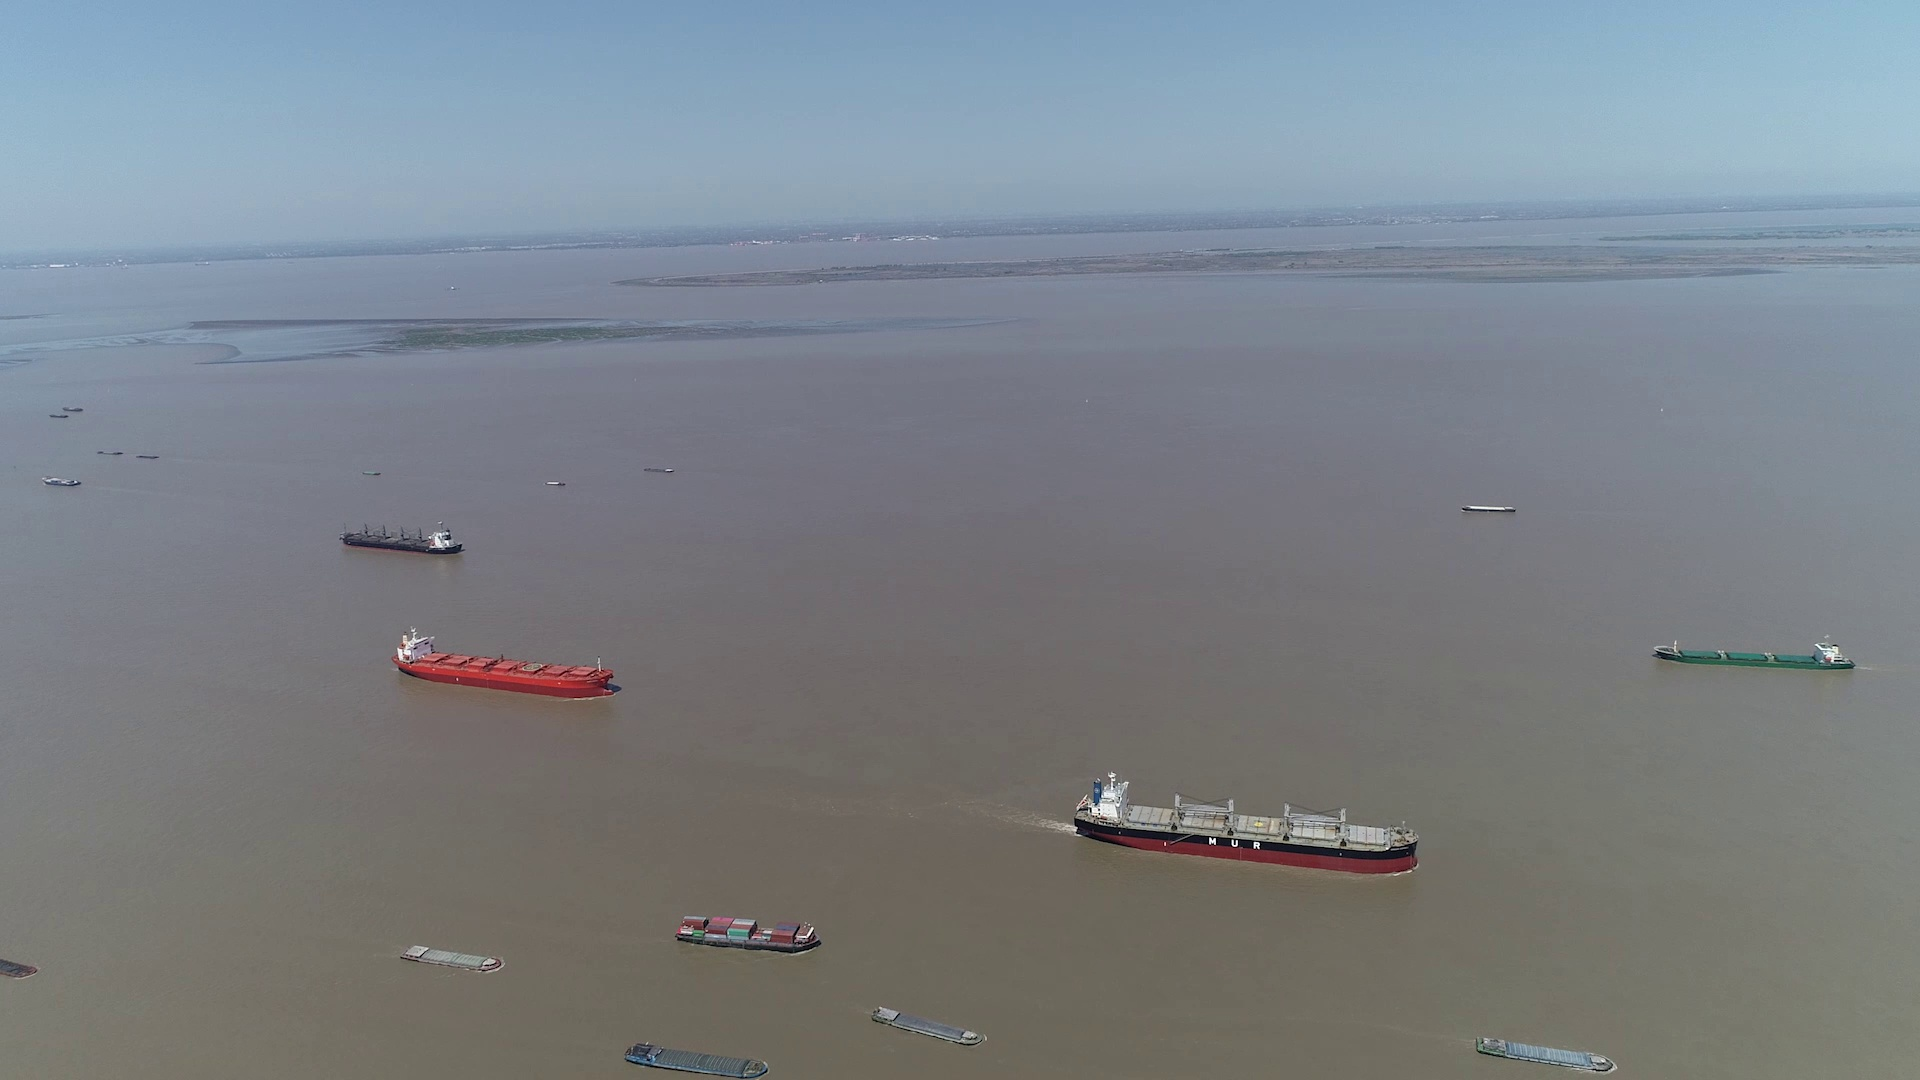ship: (1072, 775, 1420, 873), (393, 630, 615, 699), (1658, 636, 1855, 670), (676, 916, 822, 953), (625, 1043, 771, 1079), (1476, 1036, 1615, 1073), (873, 1007, 986, 1048), (340, 521, 463, 554), (400, 942, 502, 971), (0, 953, 38, 978), (1458, 504, 1516, 514), (42, 475, 83, 487)
